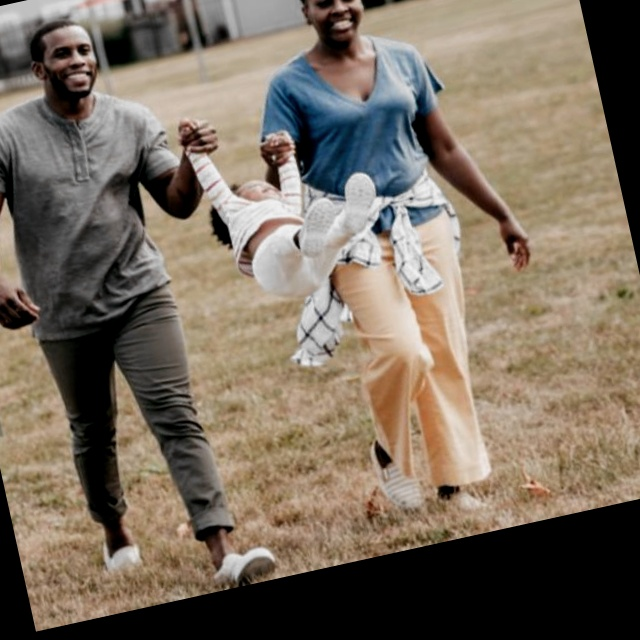Sin_Casco_Mascarrilla: (20, 15, 105, 109), (290, 0, 378, 54)
Sin_Chaleco: (0, 79, 185, 333), (268, 27, 451, 205)
